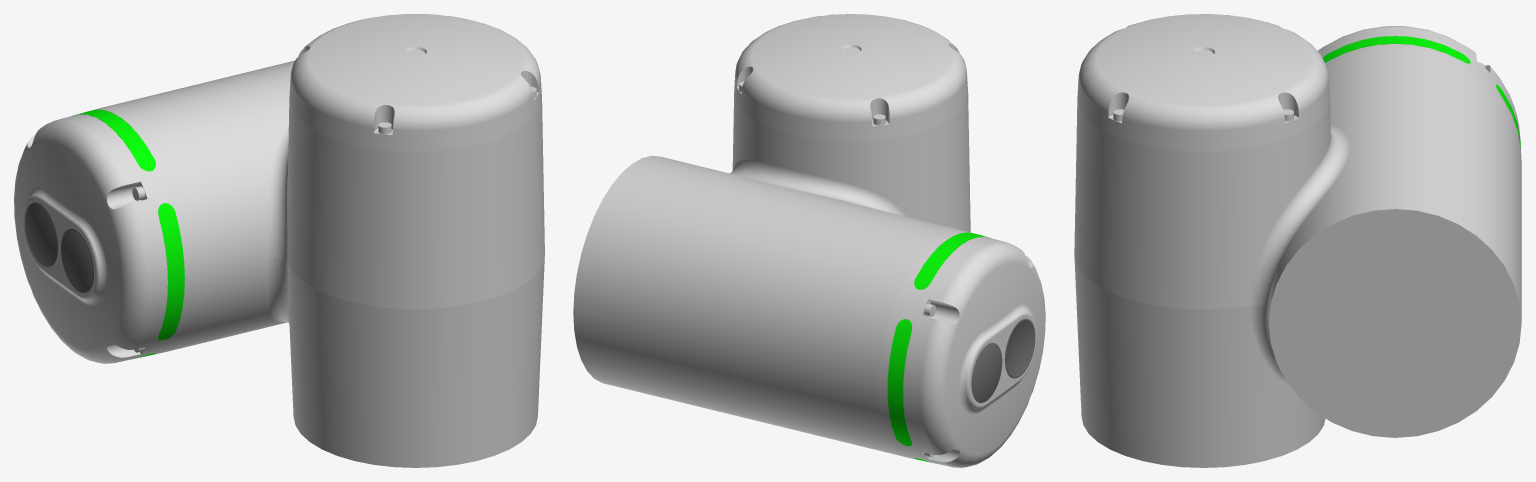
The picture shows the model from 3 angles, left to right: view 1: azimuth 30°, elevation 25°; view 2: azimuth 150°, elevation 25°; view 3: azimuth 270°, elevation 25°; orthographic projection. The views are drawn at different scales.
Visible parts, largest first — view 1: link_5 (×28); view 2: link_5 (×24); view 3: link_5 (×16).
Boxes of the visible parts, box(x1,y1,x2,y2) form: link_5 (×28): box(14, 14, 544, 467); link_5 (×24): box(573, 14, 1045, 467); link_5 (×16): box(1074, 14, 1521, 467).
Bounding box in the file's own units: 0.1955 × 0.1868 × 0.168.
